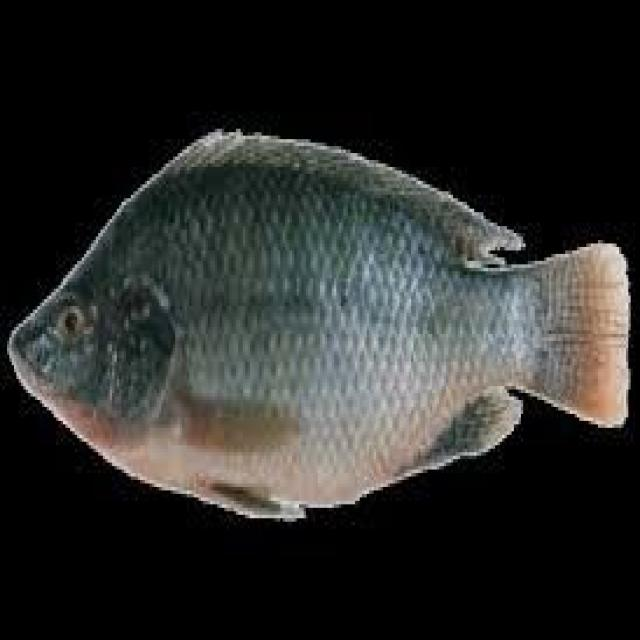ikan: (14, 103, 624, 543)
